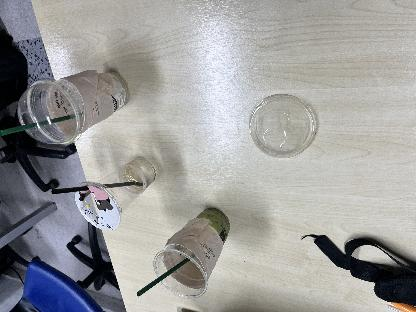Plastic Cup: (147, 202, 234, 308), (72, 148, 162, 244), (19, 72, 133, 138), (134, 252, 198, 298)
